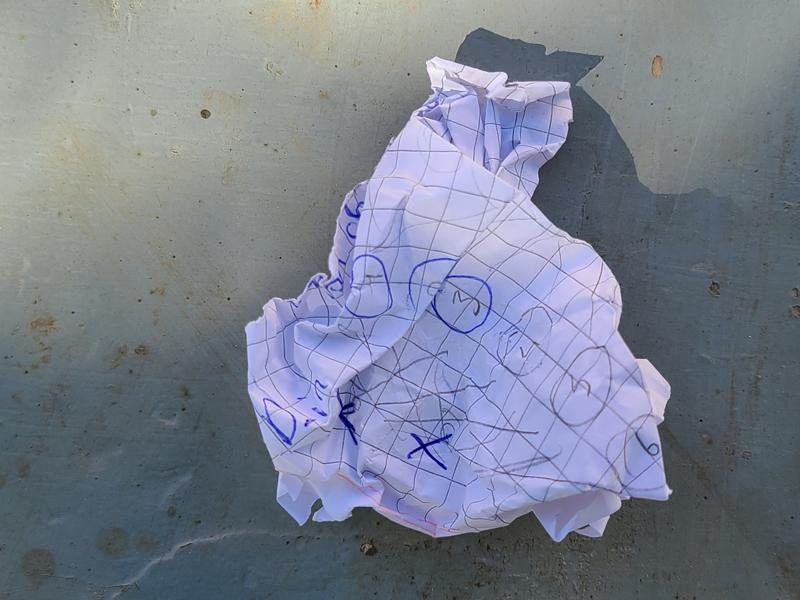papel: (245, 58, 673, 545)
